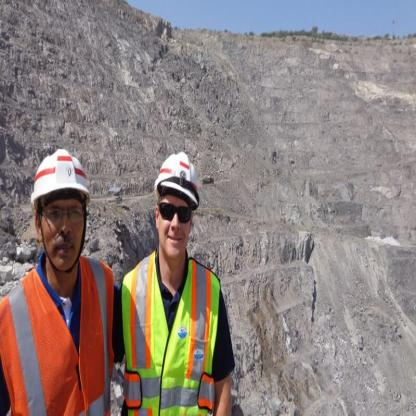person: (113, 127, 234, 413), (3, 138, 115, 415)
